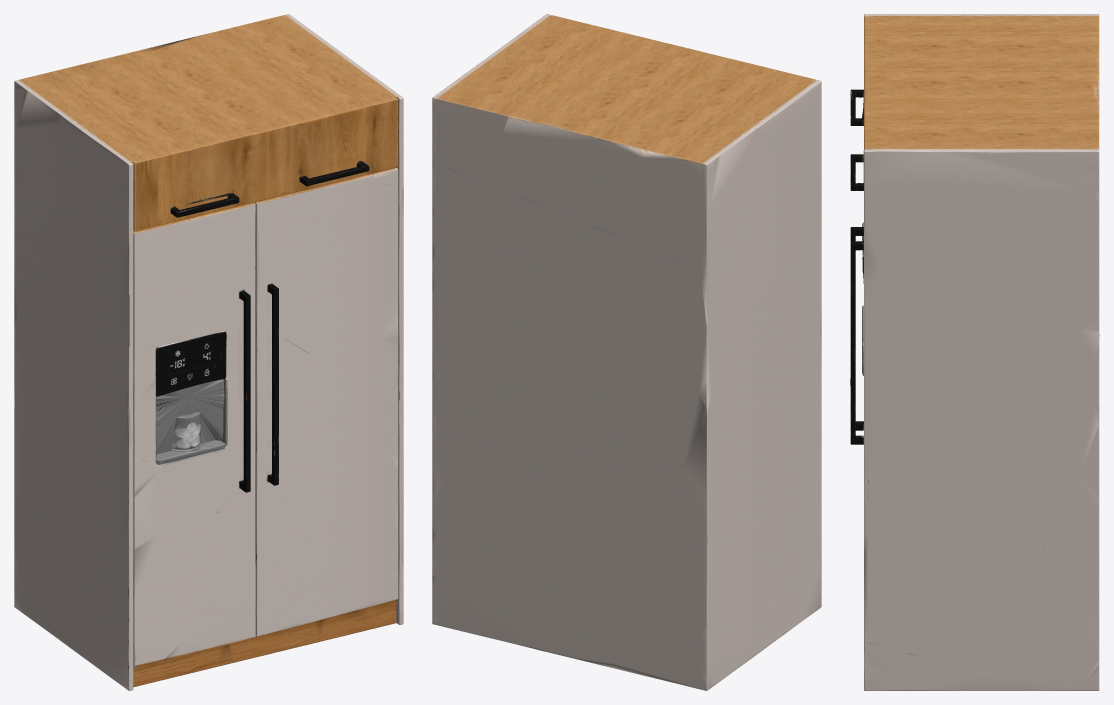
The model's file is fridge-side-by-side.glb.
3 renders of one model, left to right at view 1: azimuth 30°, elevation 25°; view 2: azimuth 150°, elevation 25°; view 3: azimuth 270°, elevation 25°, orthographic. The views are drawn at different scales.
Parts seen in each view (by area): view 1: Mesh_0; view 2: Mesh_0; view 3: Mesh_0.
Boxes of the visible parts, x1,y1,x2,y2 form: Mesh_0: (14, 14, 403, 690); Mesh_0: (432, 14, 821, 690); Mesh_0: (850, 14, 1099, 690).
Size of the model in its own units: 1.15 by 2.1 by 0.8777.
Materials: 1 (1 with a texture image).
